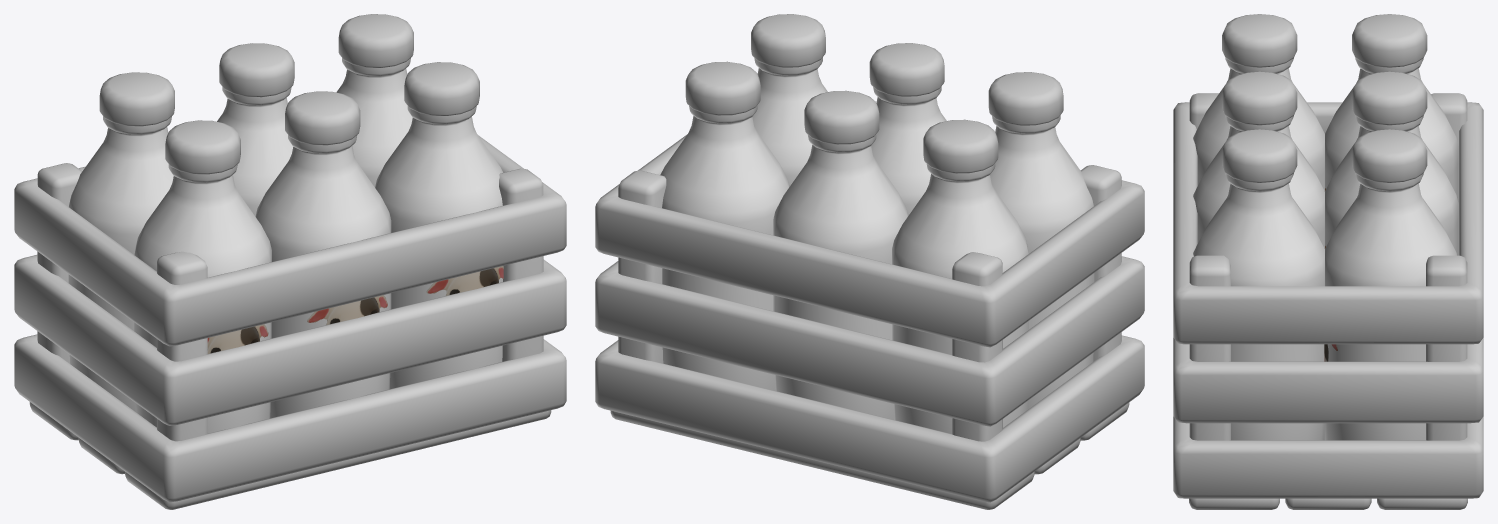
The model's file is milk_crate.fbx.
3 views of the same model, side by side, from view 1: azimuth 30°, elevation 25°; view 2: azimuth 150°, elevation 25°; view 3: azimuth 270°, elevation 25° (orthographic).
Visible parts, largest first — view 1: milk_crate, milk_bottles, milk_labels; view 2: milk_crate, milk_bottles; view 3: milk_crate, milk_bottles.
Part boxes in pixels (x1,y1,x2,y2): milk_crate: (14,14,566,509); milk_bottles: (68,58,503,433); milk_labels: (207,266,503,353); milk_crate: (595,14,1144,509); milk_bottles: (660,57,1094,433); milk_crate: (1173,14,1483,509); milk_bottles: (1193,58,1458,440).
Bounding box in the file's own units: 2.7 × 2.17 × 1.82.
